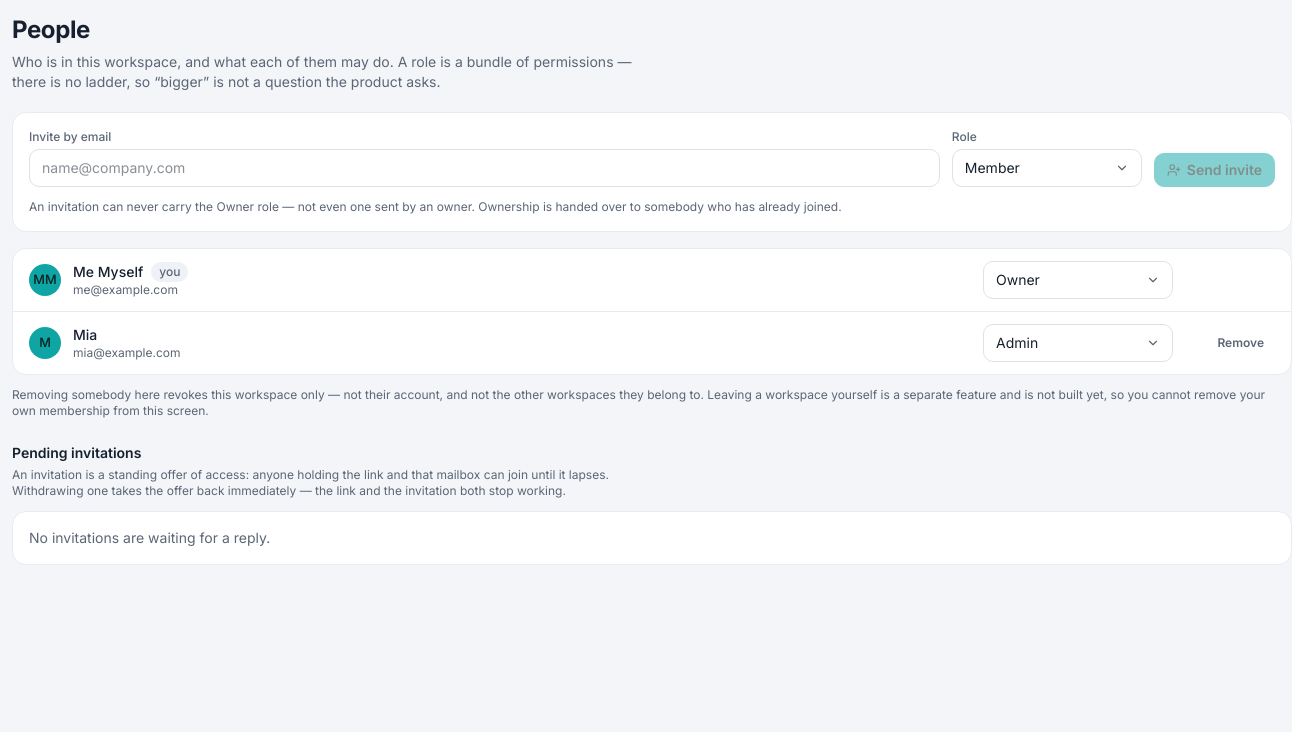
Test: WorkspacePeoplePage — the roster › renders a ceiling refusal verbatim, because it names the missing permission
expect the text "Mia" is shown: met, box [73,325,97,345]
Click the button with aria-label "Role for Mia": click(1078, 343) [983,324,1173,362]
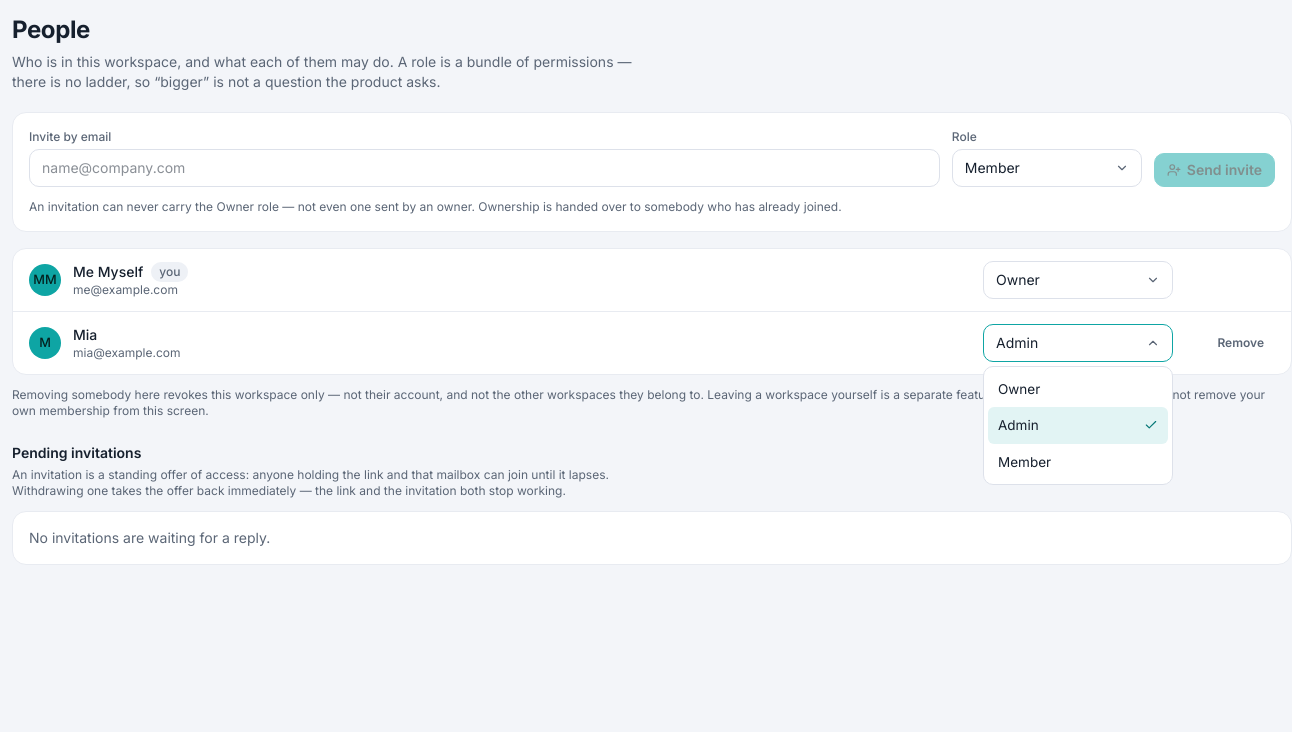
Click the option "Member": click(1025, 462) [998,454,1051,470]
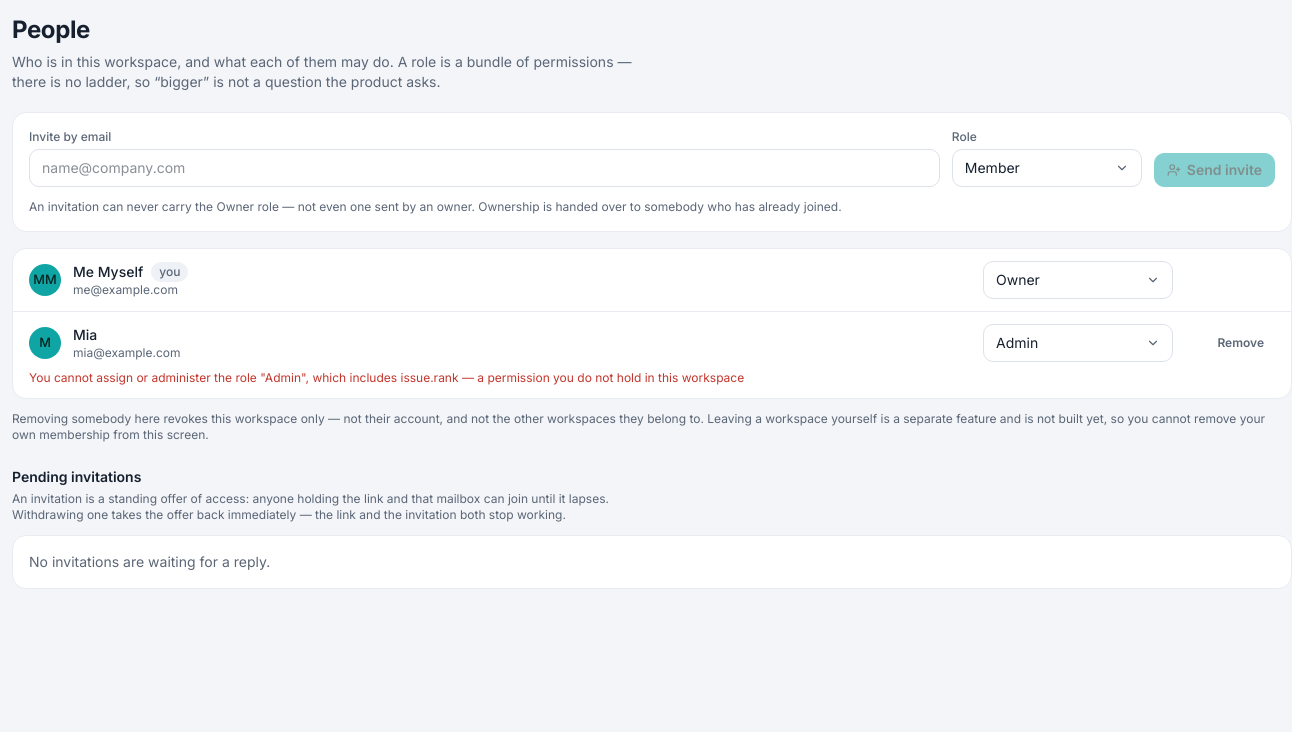
expect the text "which includes issue.rank" is shown: met, box [29,370,744,385]
